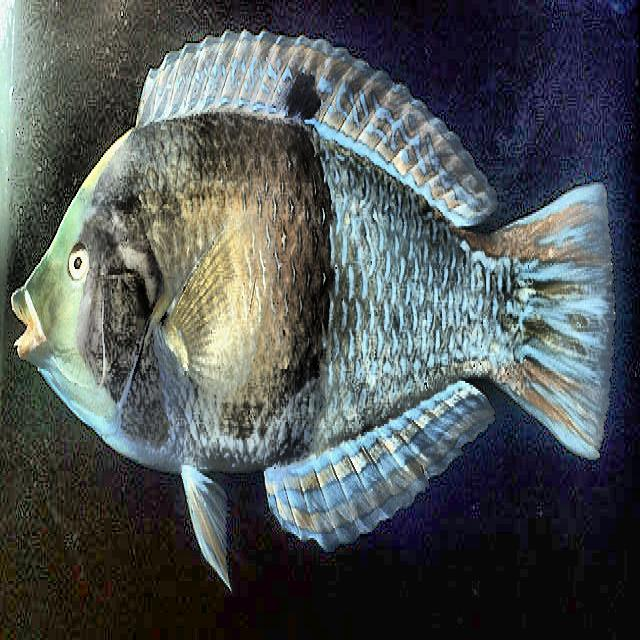fish: (6, 28, 616, 596)
